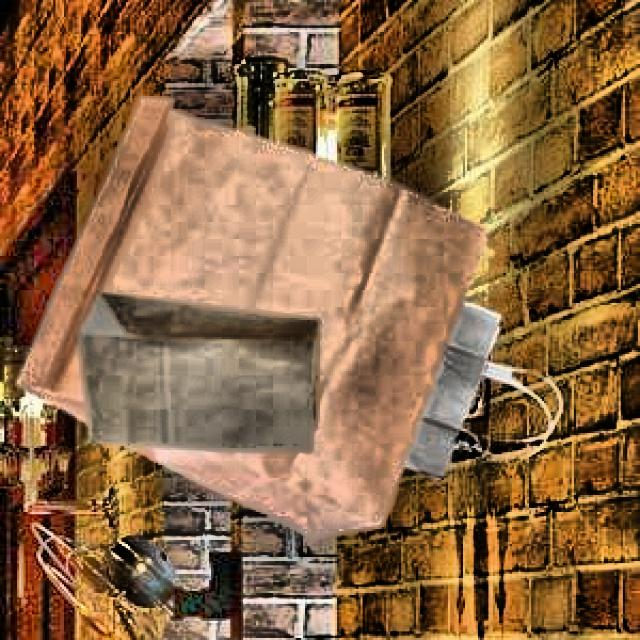Paper-bag: (27, 86, 489, 566), (196, 237, 570, 510), (71, 286, 356, 499)
